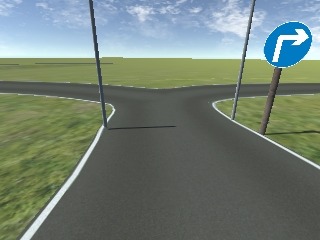right: (263, 20, 311, 65)
